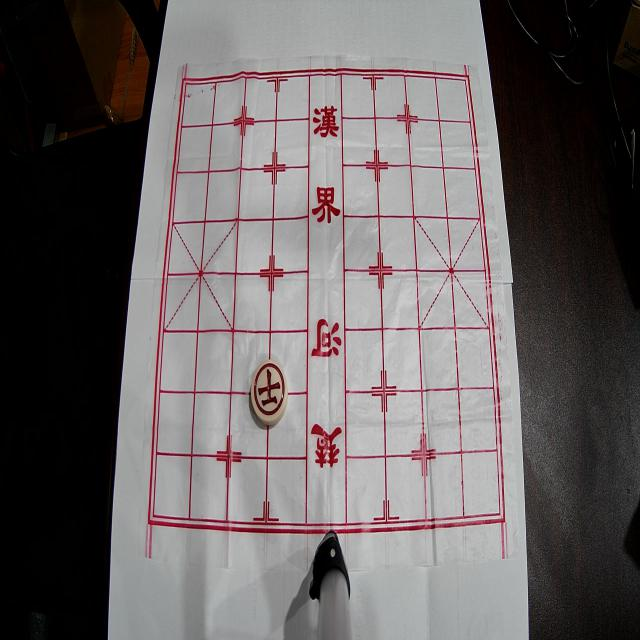red-guard: (251, 360, 288, 426)
